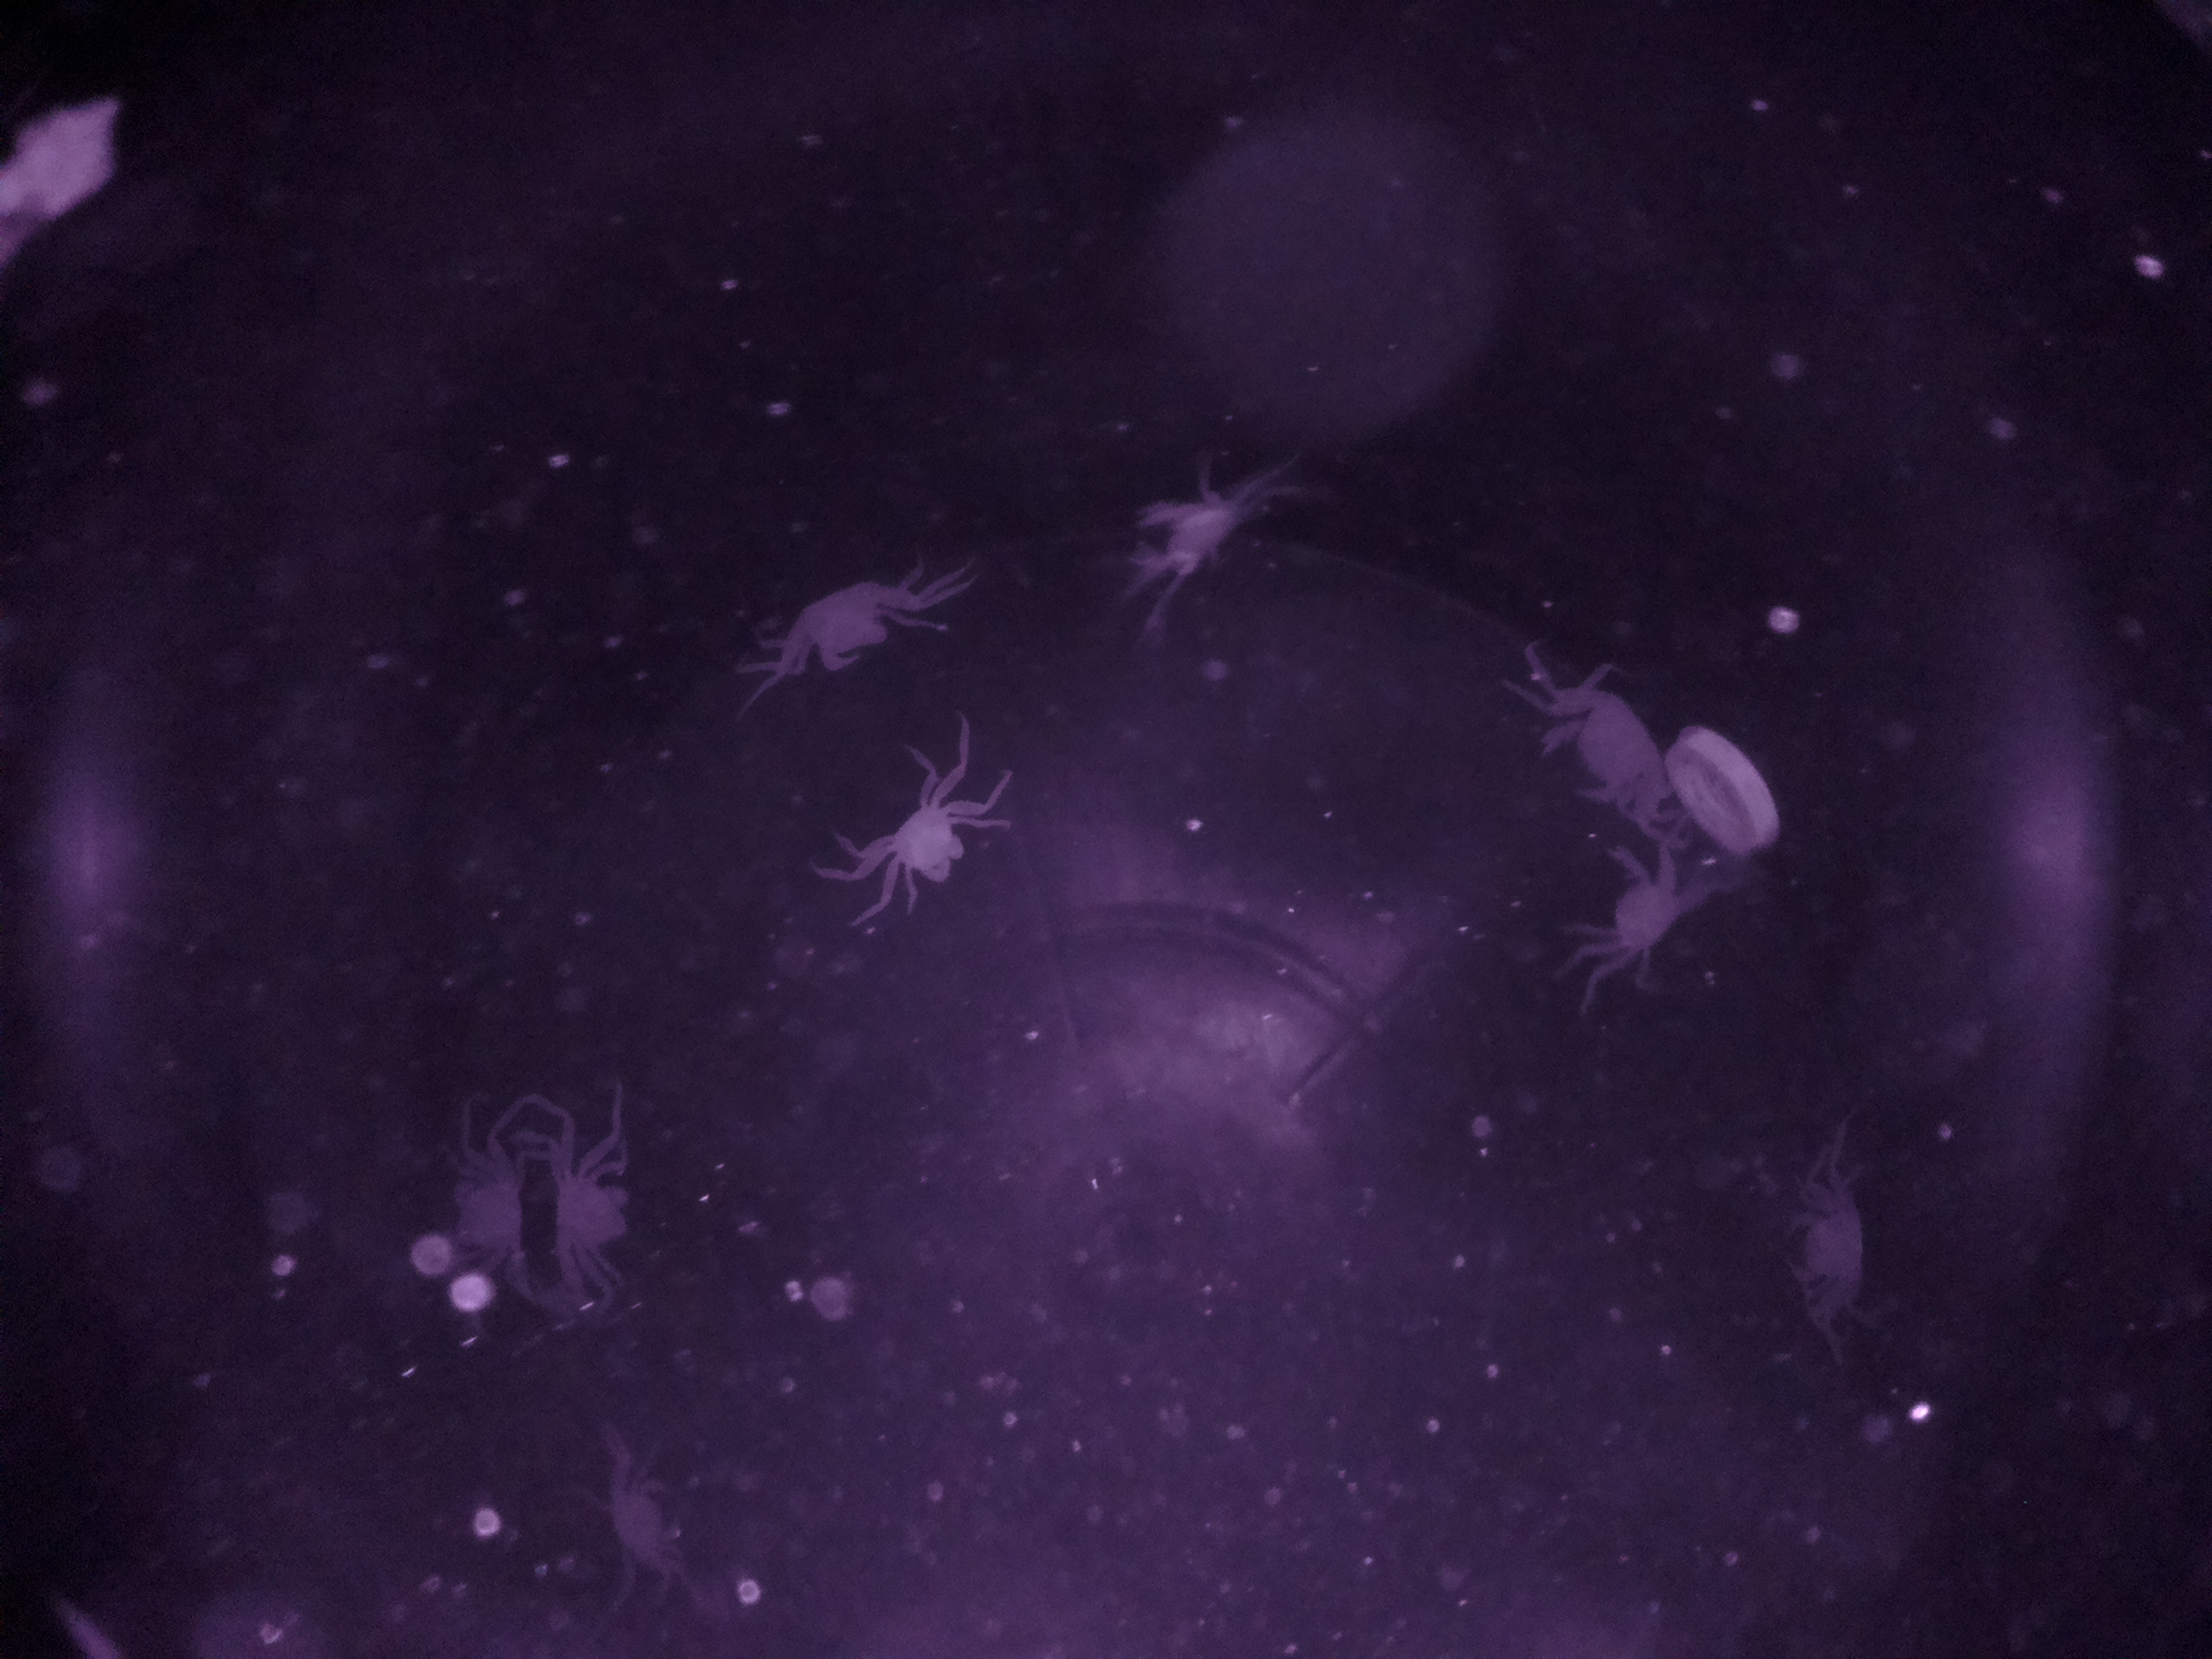Crab: (1561, 817, 1719, 986), (1521, 664, 1693, 816), (756, 558, 944, 694), (425, 1105, 536, 1310), (1763, 1171, 1907, 1328), (543, 1117, 657, 1300), (860, 758, 984, 917)
